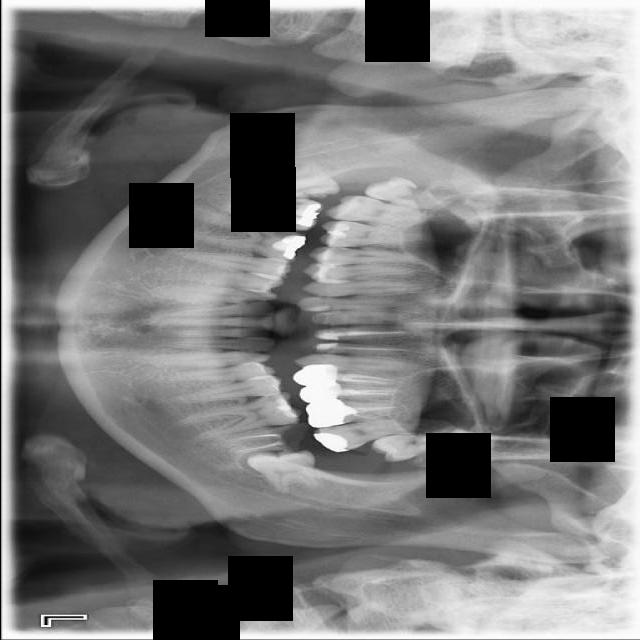3M ESPE Implant: (361, 169, 448, 217)
52: (291, 360, 350, 432), (256, 221, 311, 270), (253, 385, 302, 436), (273, 191, 325, 238), (312, 422, 364, 454), (318, 219, 365, 250), (278, 421, 315, 454), (301, 326, 343, 342), (299, 342, 343, 355)
73: (219, 426, 286, 457), (339, 367, 410, 392), (344, 400, 416, 422), (338, 321, 410, 341), (340, 384, 404, 403), (341, 343, 410, 357), (70, 608, 81, 618)
BioHorizons Implant: (311, 414, 417, 456)
BioLife Implant: (367, 434, 460, 462)
Biomet 3i Implant: (244, 448, 322, 496)
Blue Sky Bio Implant: (219, 423, 316, 456)
Caries: (325, 192, 430, 232)
Implant: (214, 193, 323, 233)
Keystone Dental Implant: (264, 151, 340, 206)
